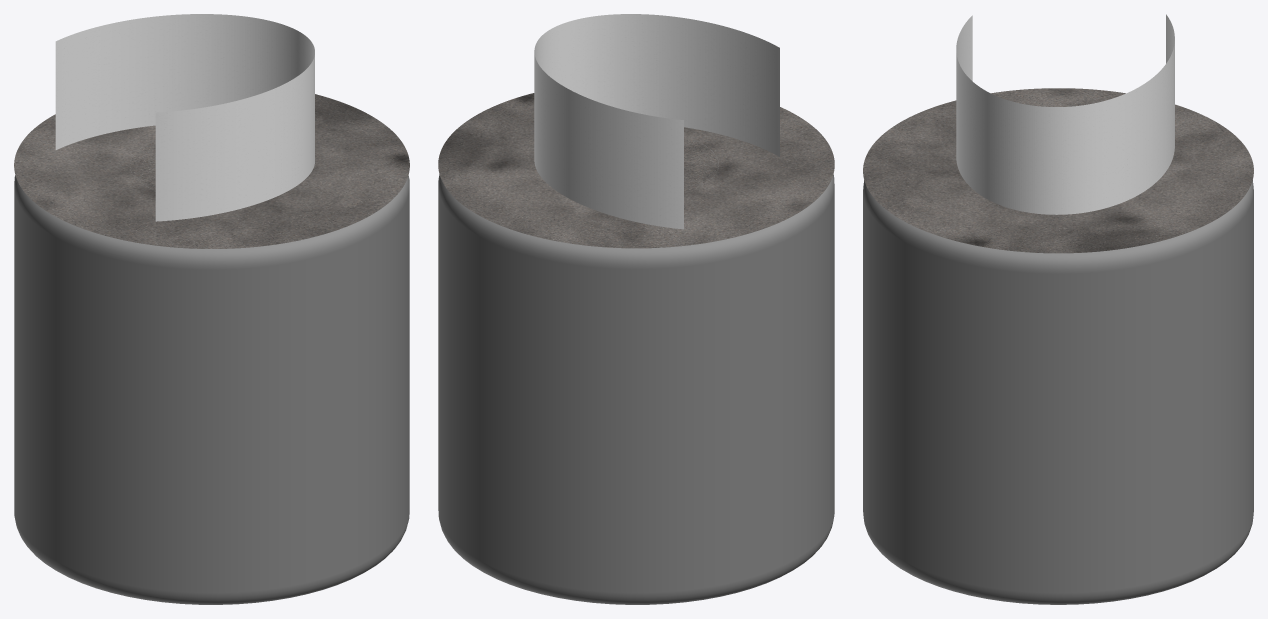
Rendered from Electric_Motor.glb.
The picture shows the model from 3 angles, left to right: view 1: azimuth 30°, elevation 25°; view 2: azimuth 150°, elevation 25°; view 3: azimuth 270°, elevation 25°; orthographic projection.
Parts seen in each view (by area): view 1: Rounded Cylinder #1, Cylinder, Circle, Circle.001; view 2: Rounded Cylinder #1, Cylinder, Circle, Circle.001; view 3: Rounded Cylinder #1, Circle, Cylinder.
Boxes of the visible parts, x1,y1,x2,y2 form: Rounded Cylinder #1: (14, 147, 409, 604); Cylinder: (55, 14, 314, 221); Circle: (14, 94, 409, 248); Circle.001: (130, 140, 155, 190); Rounded Cylinder #1: (438, 138, 834, 604); Cylinder: (534, 14, 779, 229); Circle: (438, 93, 834, 248); Circle.001: (684, 136, 718, 192); Rounded Cylinder #1: (863, 180, 1253, 604); Circle: (863, 88, 1253, 253); Cylinder: (956, 14, 1174, 214).
Bounding box in the file's own units: 10 × 13.12 × 10.
4 materials, 3 textured.
